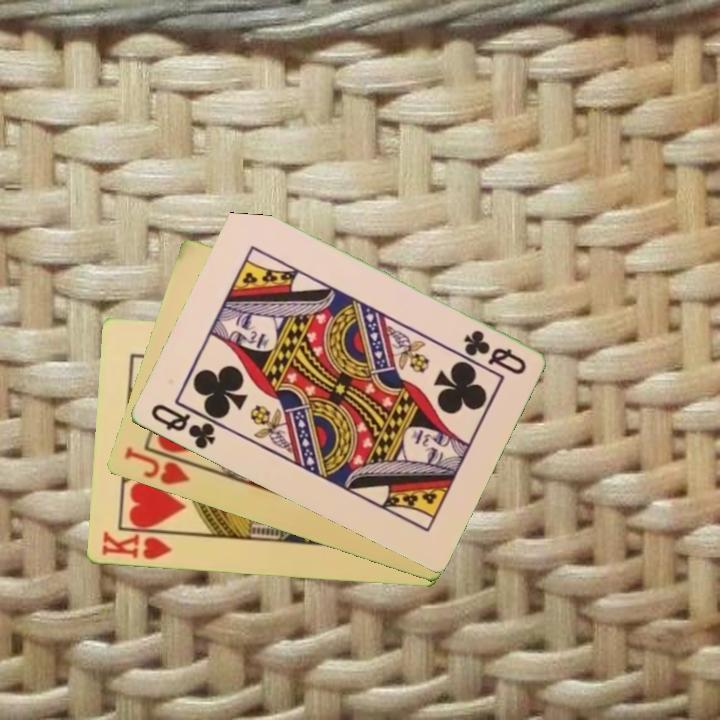Jh: (120, 443, 192, 489)
Kh: (97, 527, 181, 563)
Qc: (146, 400, 226, 453), (459, 326, 529, 378)
